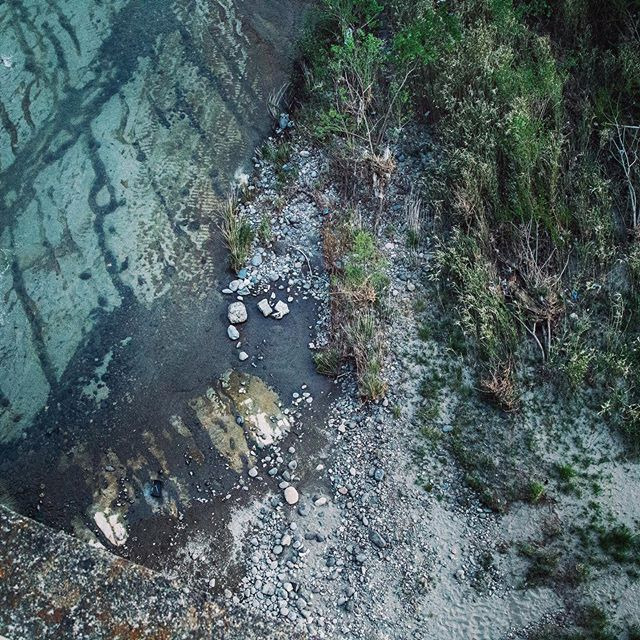river: (1, 1, 317, 498)
vegetation: (330, 1, 640, 547)
